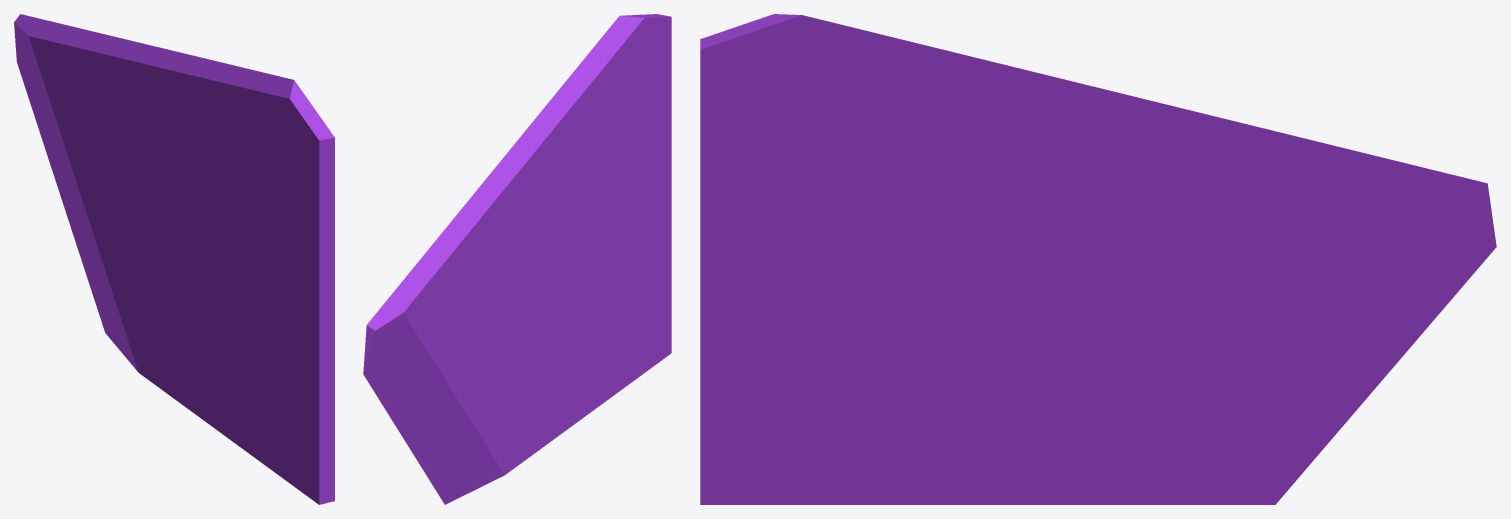
Rendered from Window_11_4_chunks.fbx.
The picture shows the model from 3 angles, left to right: view 1: azimuth 30°, elevation 25°; view 2: azimuth 150°, elevation 25°; view 3: azimuth 270°, elevation 25°; orthographic projection. The views are drawn at different scales.
Parts seen in each view (by area): view 1: Window_11_4_1, Window_11_4_6, Window_11_4_7, Window_11_4_4, Window_11_4_5, Window_11_4_8, Window_11_4_9, Window_11_4_2, Window_11_4_0; view 2: Window_11_4_1, Window_11_4_6, Window_11_4_7, Window_11_4_4, Window_11_4_5, Window_11_4_8, Window_11_4_9, Window_11_4_2, Window_11_4_0; view 3: Window_11_4_1, Window_11_4_7, Window_11_4_6, Window_11_4_4, Window_11_4_9, Window_11_4_5, Window_11_4_8, Window_11_4_2, Window_11_4_3.
Part boxes in pixels (box(x1,y1,x2,y2)): Window_11_4_1: box(157, 187, 334, 504); Window_11_4_6: box(14, 14, 112, 232); Window_11_4_7: box(73, 174, 172, 385); Window_11_4_4: box(231, 68, 334, 208); Window_11_4_5: box(136, 44, 243, 160); Window_11_4_8: box(111, 92, 182, 269); Window_11_4_9: box(81, 29, 147, 145); Window_11_4_2: box(183, 132, 279, 200); Window_11_4_0: box(161, 125, 199, 196); Window_11_4_1: box(521, 79, 671, 462); Window_11_4_6: box(363, 253, 480, 456); Window_11_4_7: box(415, 326, 536, 504); Window_11_4_4: box(573, 14, 671, 125); Window_11_4_5: box(481, 73, 592, 218); Window_11_4_8: box(479, 203, 545, 334); Window_11_4_9: box(426, 185, 513, 302); Window_11_4_2: box(546, 124, 634, 220); Window_11_4_0: box(526, 216, 561, 252); Window_11_4_1: box(700, 139, 1104, 504); Window_11_4_7: box(1060, 270, 1356, 504); Window_11_4_6: box(1228, 144, 1496, 409); Window_11_4_4: box(700, 14, 928, 164); Window_11_4_9: box(1103, 107, 1327, 272); Window_11_4_5: box(924, 46, 1176, 208); Window_11_4_8: box(1036, 173, 1190, 326); Window_11_4_2: box(793, 124, 1062, 232); Window_11_4_3: box(898, 75, 985, 158).
Size of the model in its own units: 27.2 by 644 by 949.
